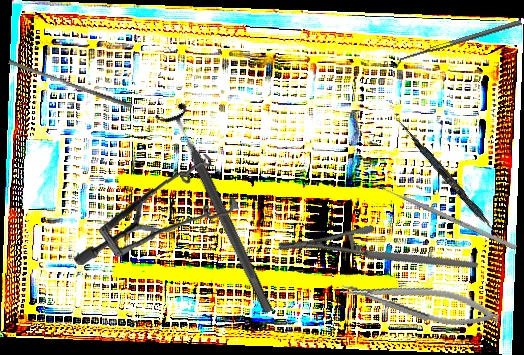Fixation Ring: (153, 101, 285, 320)
Needle Holder: (274, 182, 480, 330), (338, 267, 502, 337)
Pusher: (369, 180, 518, 251), (6, 59, 135, 109)
Spatula Surgical: (394, 119, 513, 250), (392, 19, 524, 69)
Speculum: (74, 145, 244, 276)
